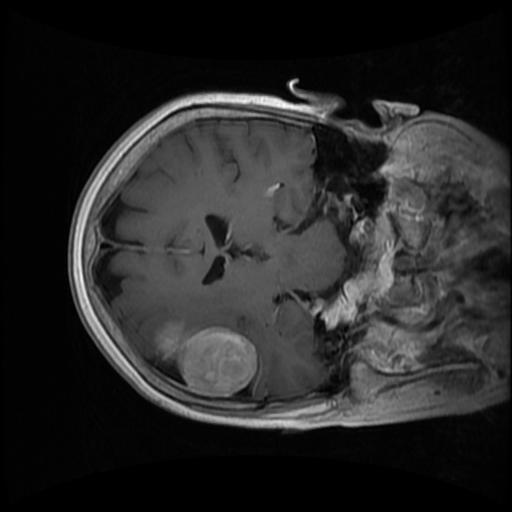meningioma: (151, 318, 257, 397)
